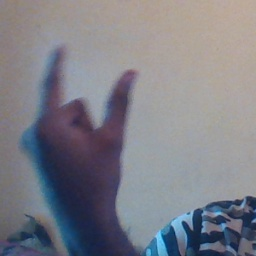U: (18, 41, 143, 186)
